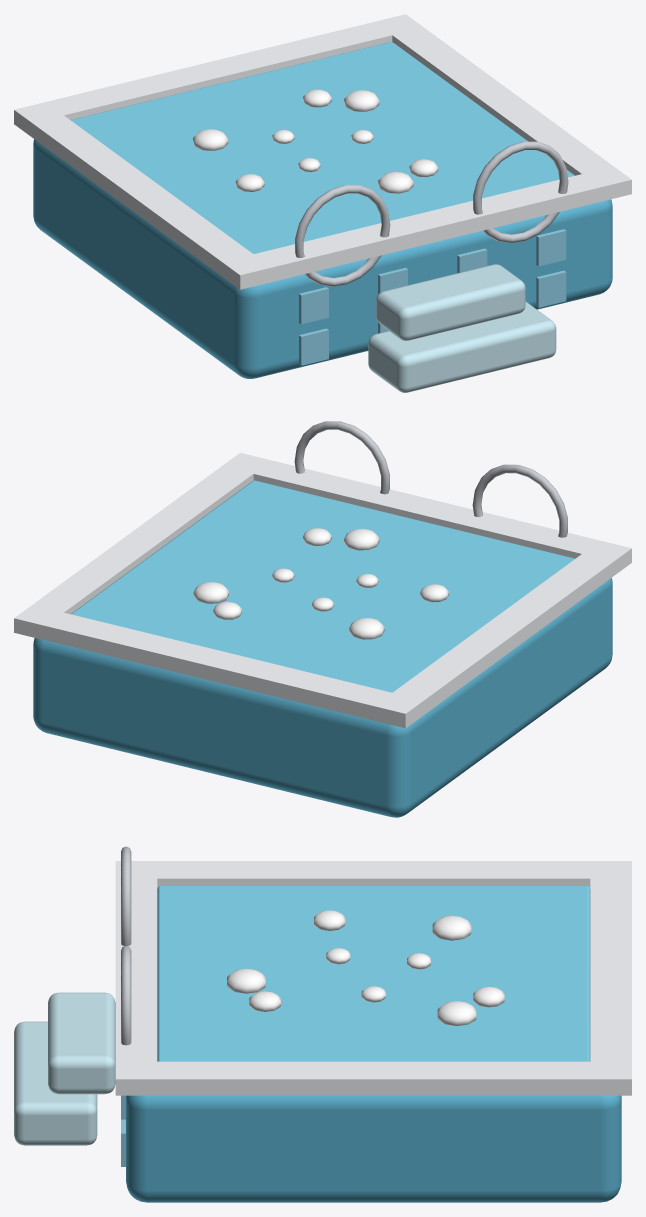
File: jacuzzi-mosaic.glb
3 renders of one model, top to bottom at view 1: azimuth 30°, elevation 25°; view 2: azimuth 150°, elevation 25°; view 3: azimuth 270°, elevation 25°, orthographic. The views are drawn at different scales.
Bounding box in the file's own units: 1.98 × 0.8593 × 2.37.
